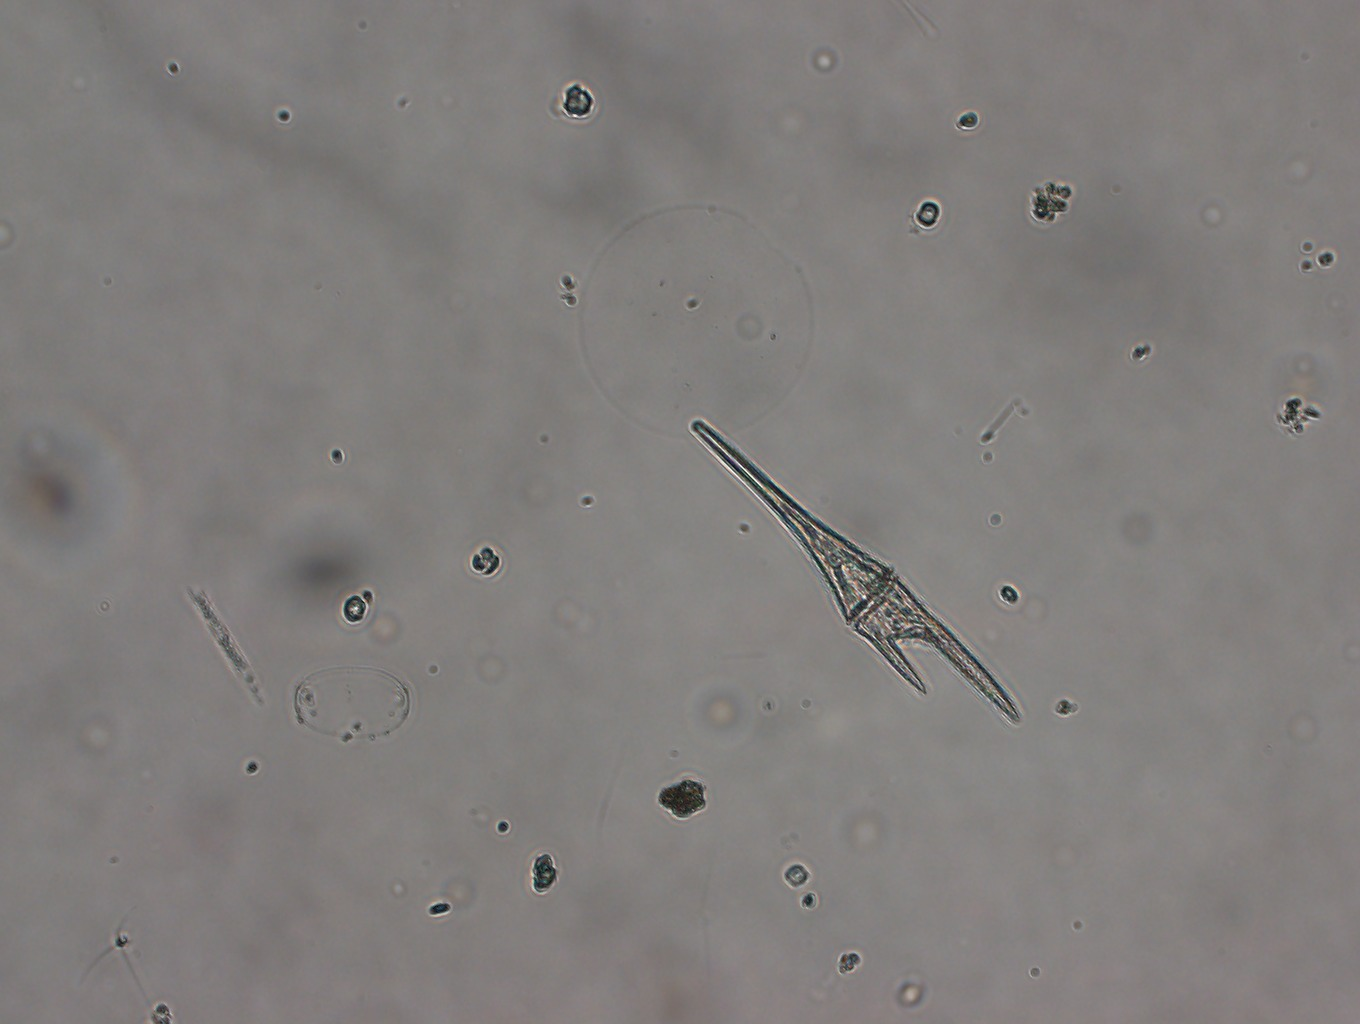ceratium furca: (681, 413, 1023, 737)
